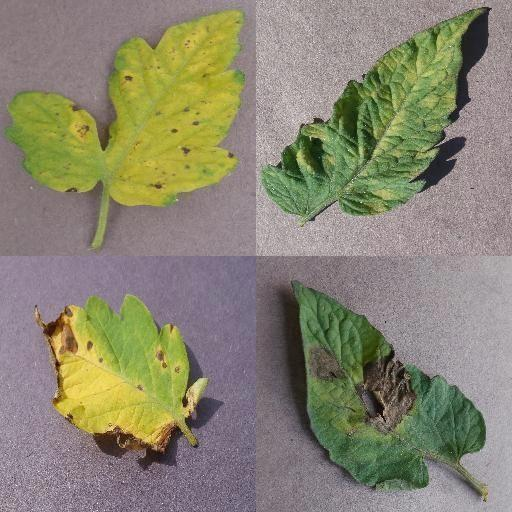Late Blight: (290, 277, 486, 491)
Leaf Mold: (263, 7, 491, 217)
Septoria: (7, 8, 246, 206), (37, 294, 212, 456)
